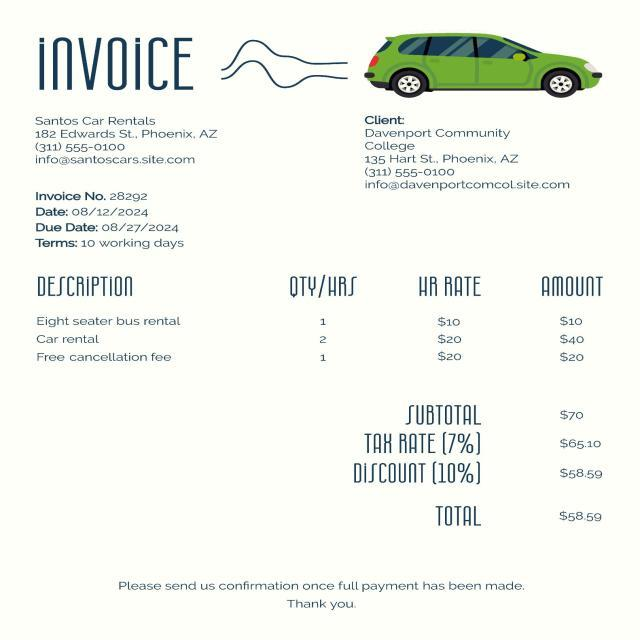ROI: (25, 271, 607, 368), (350, 396, 616, 532), (360, 111, 576, 192), (116, 576, 526, 614), (30, 32, 202, 94), (34, 188, 194, 252), (34, 117, 220, 166)
